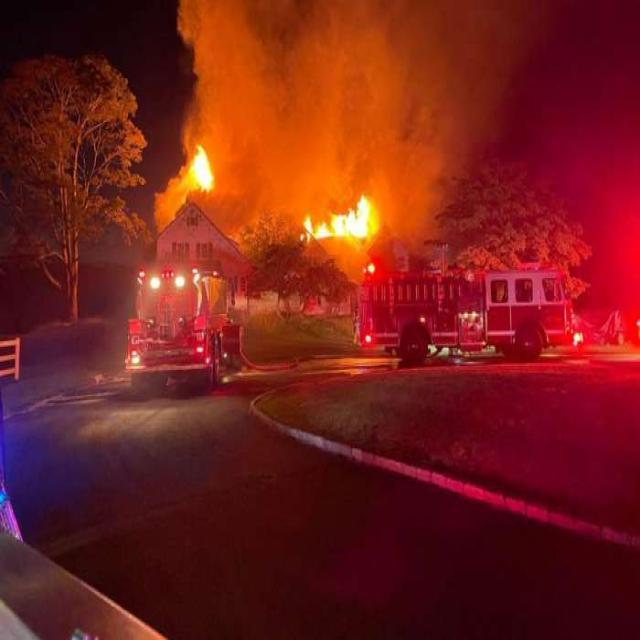Fire: (304, 208, 378, 240), (188, 150, 217, 194)
Smoke: (218, 16, 406, 183)
